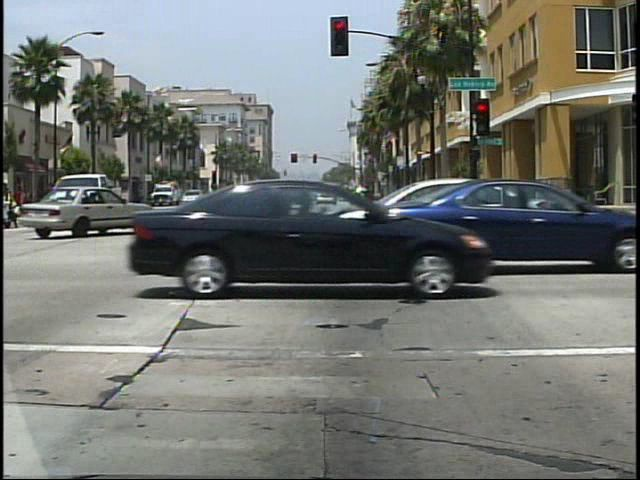person: (2, 171, 22, 233)
